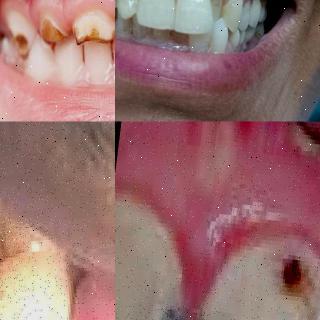Gum Swelling: (139, 134, 283, 302), (28, 0, 115, 31)
calculus: (267, 250, 320, 320)
cavities: (253, 240, 320, 320), (0, 220, 38, 308), (71, 6, 115, 54), (121, 302, 225, 320), (37, 15, 65, 57), (11, 12, 33, 54)
maligned: (167, 20, 194, 52), (209, 17, 231, 53), (206, 0, 230, 28)
plaque: (136, 222, 190, 320), (115, 24, 165, 39)
